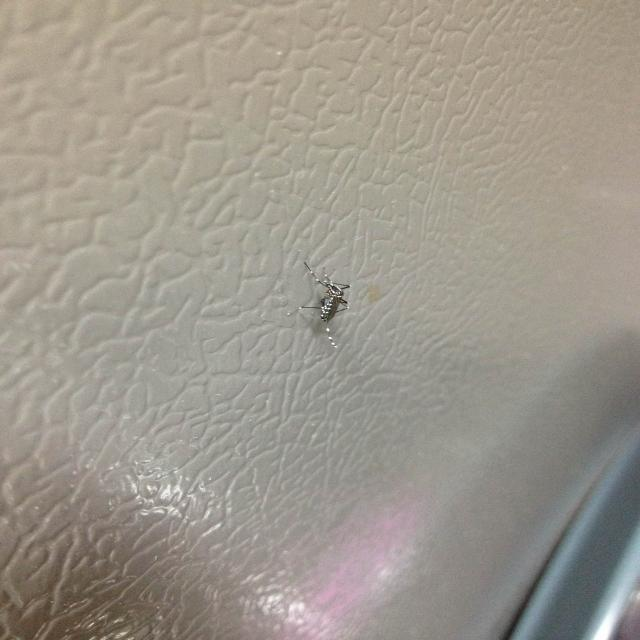albopictus: (280, 257, 358, 330)
